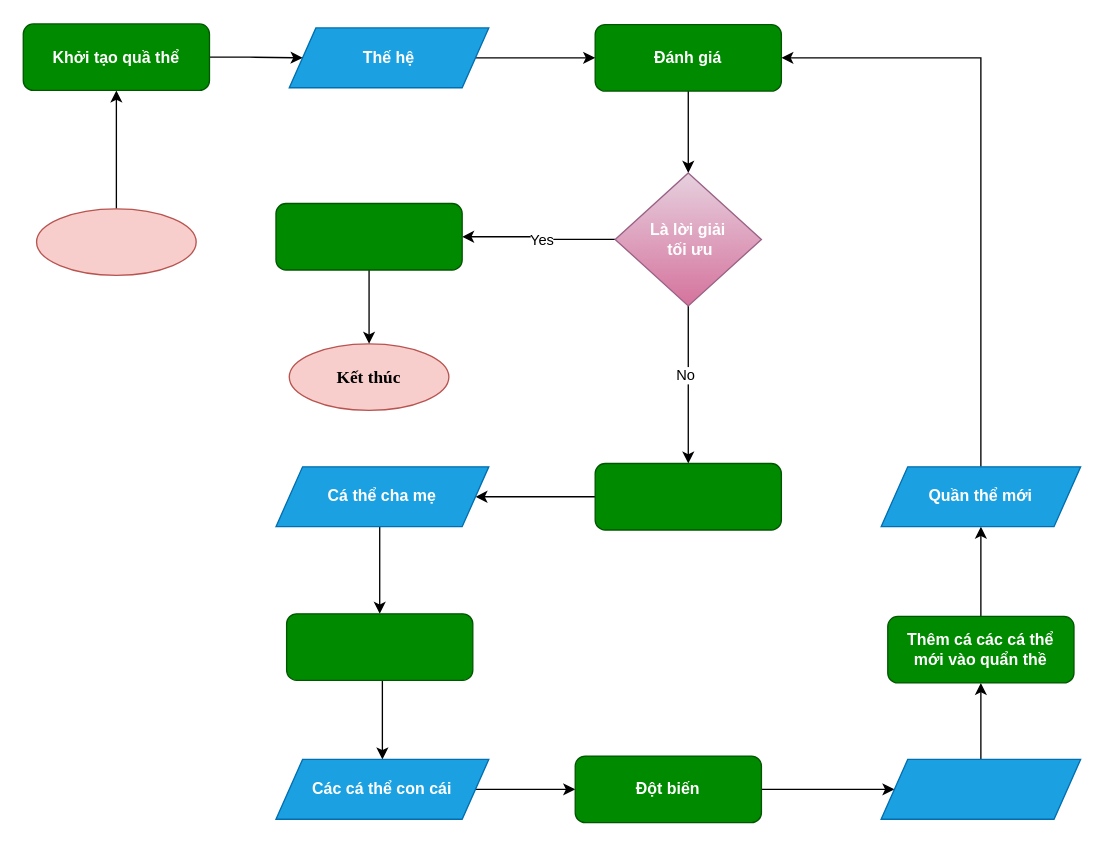
Some shapes in this 1104 by 846 pixel diagram are drawn without their labels. Here are the shapes that lost their labels. From the top down, the box of each, then its label:
(35, 207, 196, 275): Bắt đầu
(275, 202, 462, 270): Trình bày kết quả
(594, 462, 781, 530): Lựa chọn
(285, 612, 473, 680): Lai ghép
(880, 758, 1081, 819): Cá thể bị đột biến
